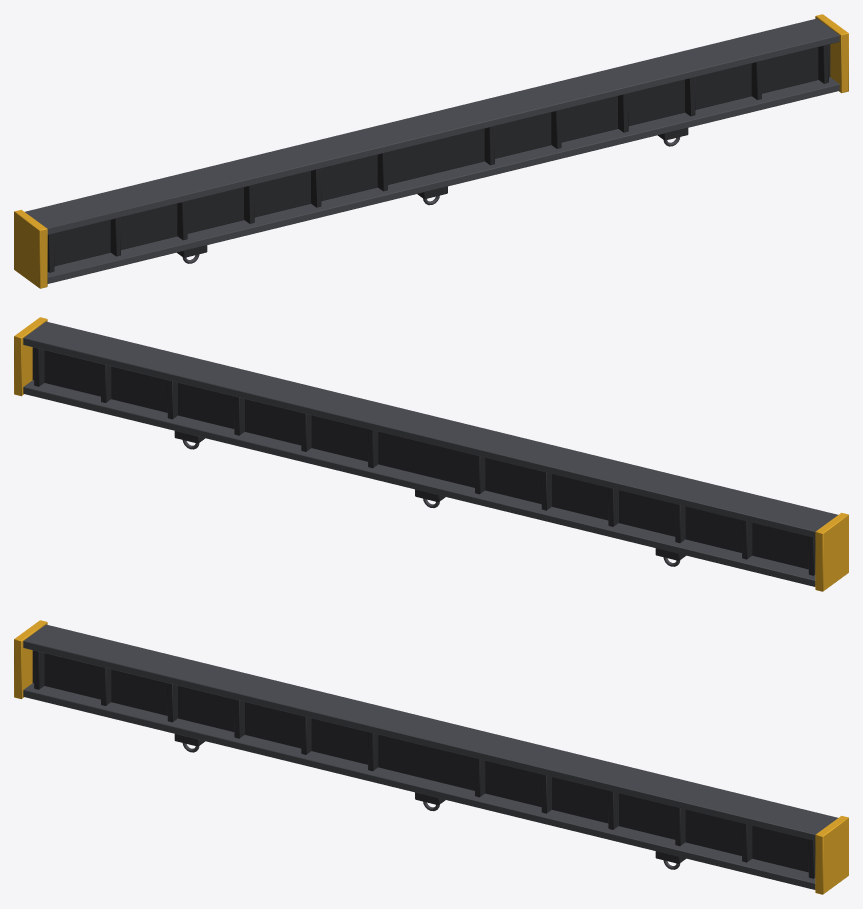
The model's file is Hang_Beam.glb.
3 renders of one model, top to bottom at view 1: azimuth 30°, elevation 25°; view 2: azimuth 150°, elevation 25°; view 3: azimuth 330°, elevation 25°, orthographic.
Parts seen in each view (by area): view 1: Hang_Beam; view 2: Hang_Beam; view 3: Hang_Beam.
Boxes of the visible parts, bbox=[...] form: Hang_Beam: bbox=[14, 14, 848, 288]; Hang_Beam: bbox=[14, 317, 848, 591]; Hang_Beam: bbox=[14, 620, 848, 894].
Bounding box in the file's own units: 6.06 × 0.5925 × 0.34.
